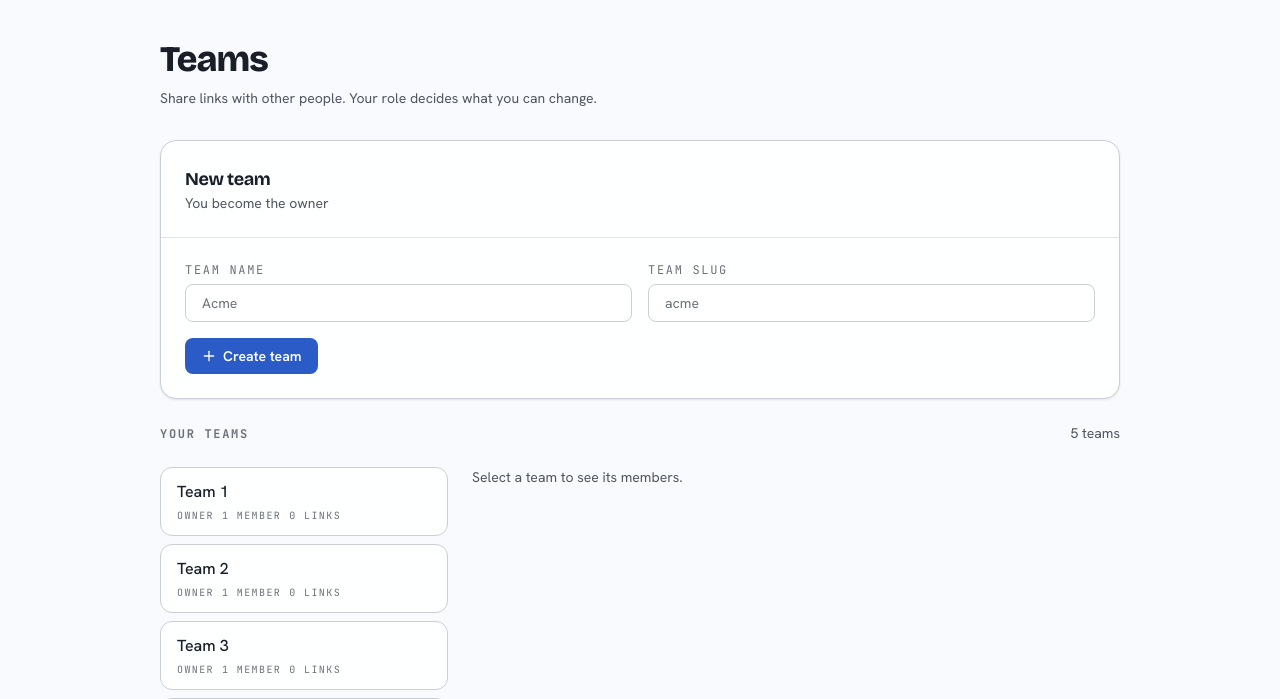
Test: Organizations page › loads members for the selected team only
The width and height of the screenshot is (1280, 699).
Expected: the button "Team 1 Owner 1 member 0 links" is shown, [160,467,448,536]
Step 1. Click the button "Team 3 Owner 1 member 0 links" → (203, 646), box [160,621,448,690]
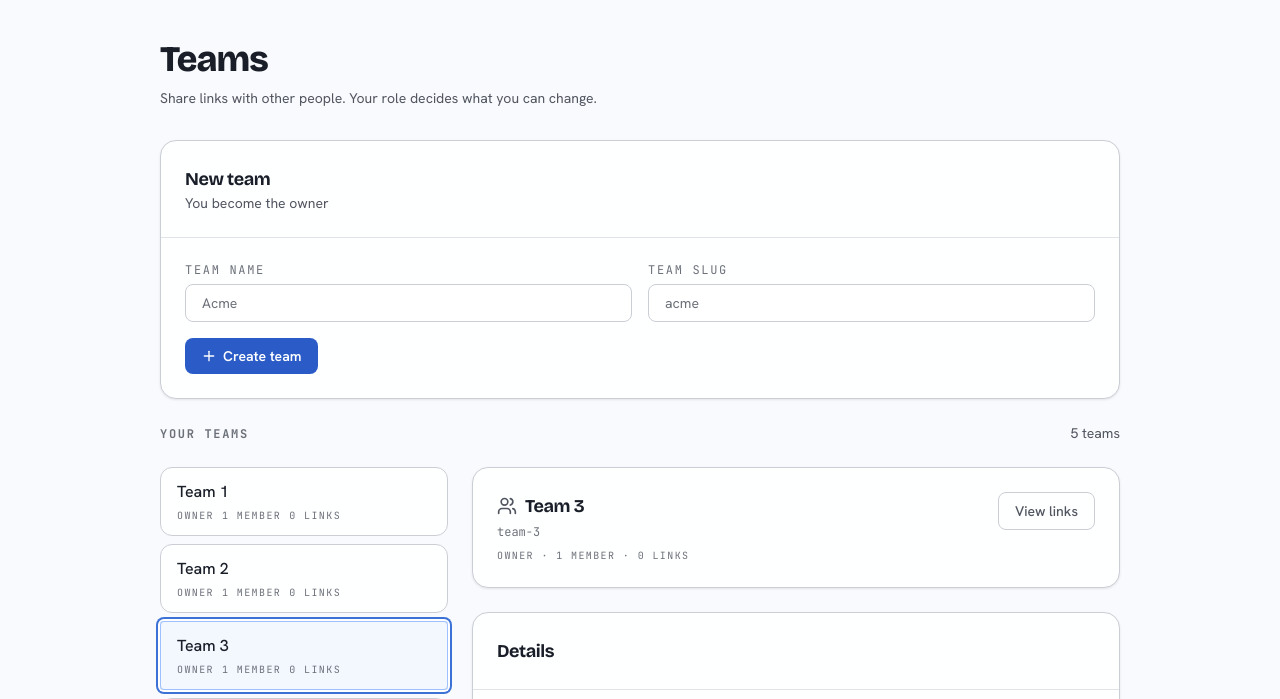
Result: the heading "Team 3" is shown at [525,492,584,520]
Step 2. Click the button "Team 1 Owner 1 member 0 links" → (203, 492), box [160,467,448,536]
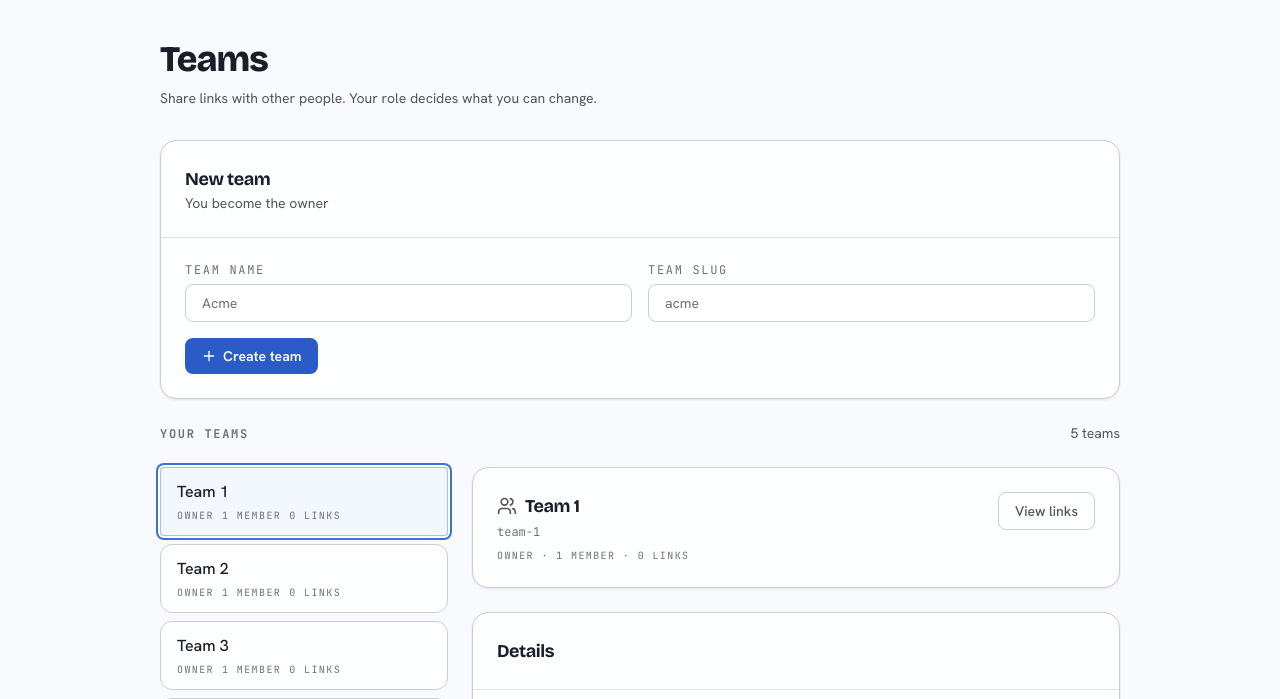
Result: the heading "Team 1" is shown at [525,492,580,520]
